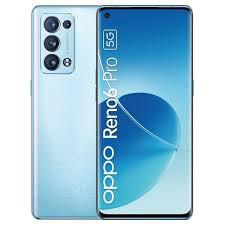Smartphone: (98, 6, 197, 221), (35, 7, 99, 221)
